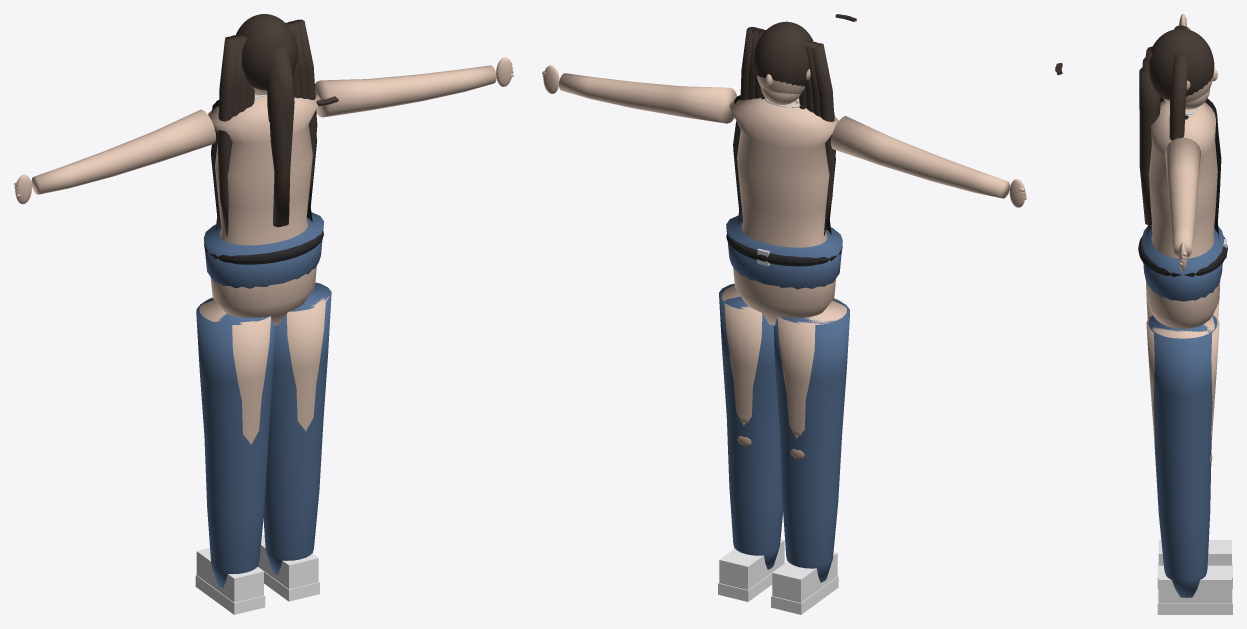
Rendered from reference_character.glb.
3 renders of one model, left to right at view 1: azimuth 30°, elevation 25°; view 2: azimuth 150°, elevation 25°; view 3: azimuth 270°, elevation 25°, orthographic. The views are drawn at different scales.
Parts seen in each view (by area): view 1: JeanLeg-1, Body, JeanLeg1, Arm-1, Arm1, JeanHips, Leg-1, Leg1, Scalp, Strand-1_3, Back0, Shoe-1 (+6 smaller); view 2: Body, JeanLeg-1, JeanLeg1, Arm-1, Arm1, JeanHips, Leg-1, Leg1, Scalp, Shoe1, Shoe-1, Strand-1_3 (+3 smaller); view 3: JeanLeg1, Body, Arm1, JeanHips, Scalp, Shoe1, Leg1, Back2, Strand1_3, Sole1, Shoe-1, Belt (+2 smaller).
Part boxes in pixels (left/top/right/bottom): JeanLeg-1: left=196, top=298, right=274, bottom=588; Body: left=208, top=94, right=320, bottom=325; JeanLeg1: left=263, top=282, right=331, bottom=574; Arm-1: left=31, top=109, right=215, bottom=194; Arm1: left=315, top=65, right=496, bottom=117; JeanHips: left=203, top=212, right=324, bottom=288; Leg-1: left=199, top=297, right=270, bottom=444; Leg1: left=286, top=296, right=328, bottom=431; Scalp: left=236, top=14, right=297, bottom=90; Strand-1_3: left=218, top=36, right=237, bottom=236; Back0: left=267, top=46, right=290, bottom=225; Shoe-1: left=196, top=548, right=263, bottom=602; Body: left=729, top=97, right=838, bottom=325; JeanLeg-1: left=773, top=299, right=849, bottom=582; JeanLeg1: left=719, top=283, right=782, bottom=569; Arm-1: left=831, top=116, right=1009, bottom=198; Arm1: left=559, top=73, right=736, bottom=123; JeanHips: left=726, top=215, right=842, bottom=289; Leg-1: left=777, top=298, right=846, bottom=438; Leg1: left=721, top=285, right=762, bottom=425; Scalp: left=753, top=21, right=813, bottom=86; Shoe1: left=719, top=539, right=784, bottom=589; Shoe-1: left=772, top=552, right=837, bottom=602; Strand-1_3: left=811, top=43, right=835, bottom=235; JeanLeg1: left=1148, top=315, right=1217, bottom=597; Body: left=1146, top=100, right=1220, bottom=328; Arm1: left=1165, top=137, right=1200, bottom=257; JeanHips: left=1142, top=226, right=1223, bottom=301; Scalp: left=1149, top=28, right=1214, bottom=99; Shoe1: left=1158, top=565, right=1231, bottom=603; Leg1: left=1146, top=315, right=1219, bottom=443; Back2: left=1139, top=68, right=1160, bottom=171; Strand1_3: left=1169, top=59, right=1188, bottom=140; Sole1: left=1157, top=589, right=1232, bottom=614; Shoe-1: left=1158, top=540, right=1231, bottom=565; Belt: left=1138, top=236, right=1227, bottom=276.
Size of what is drawn, in the model's own units: 1.6 by 1.78 by 0.5101.
